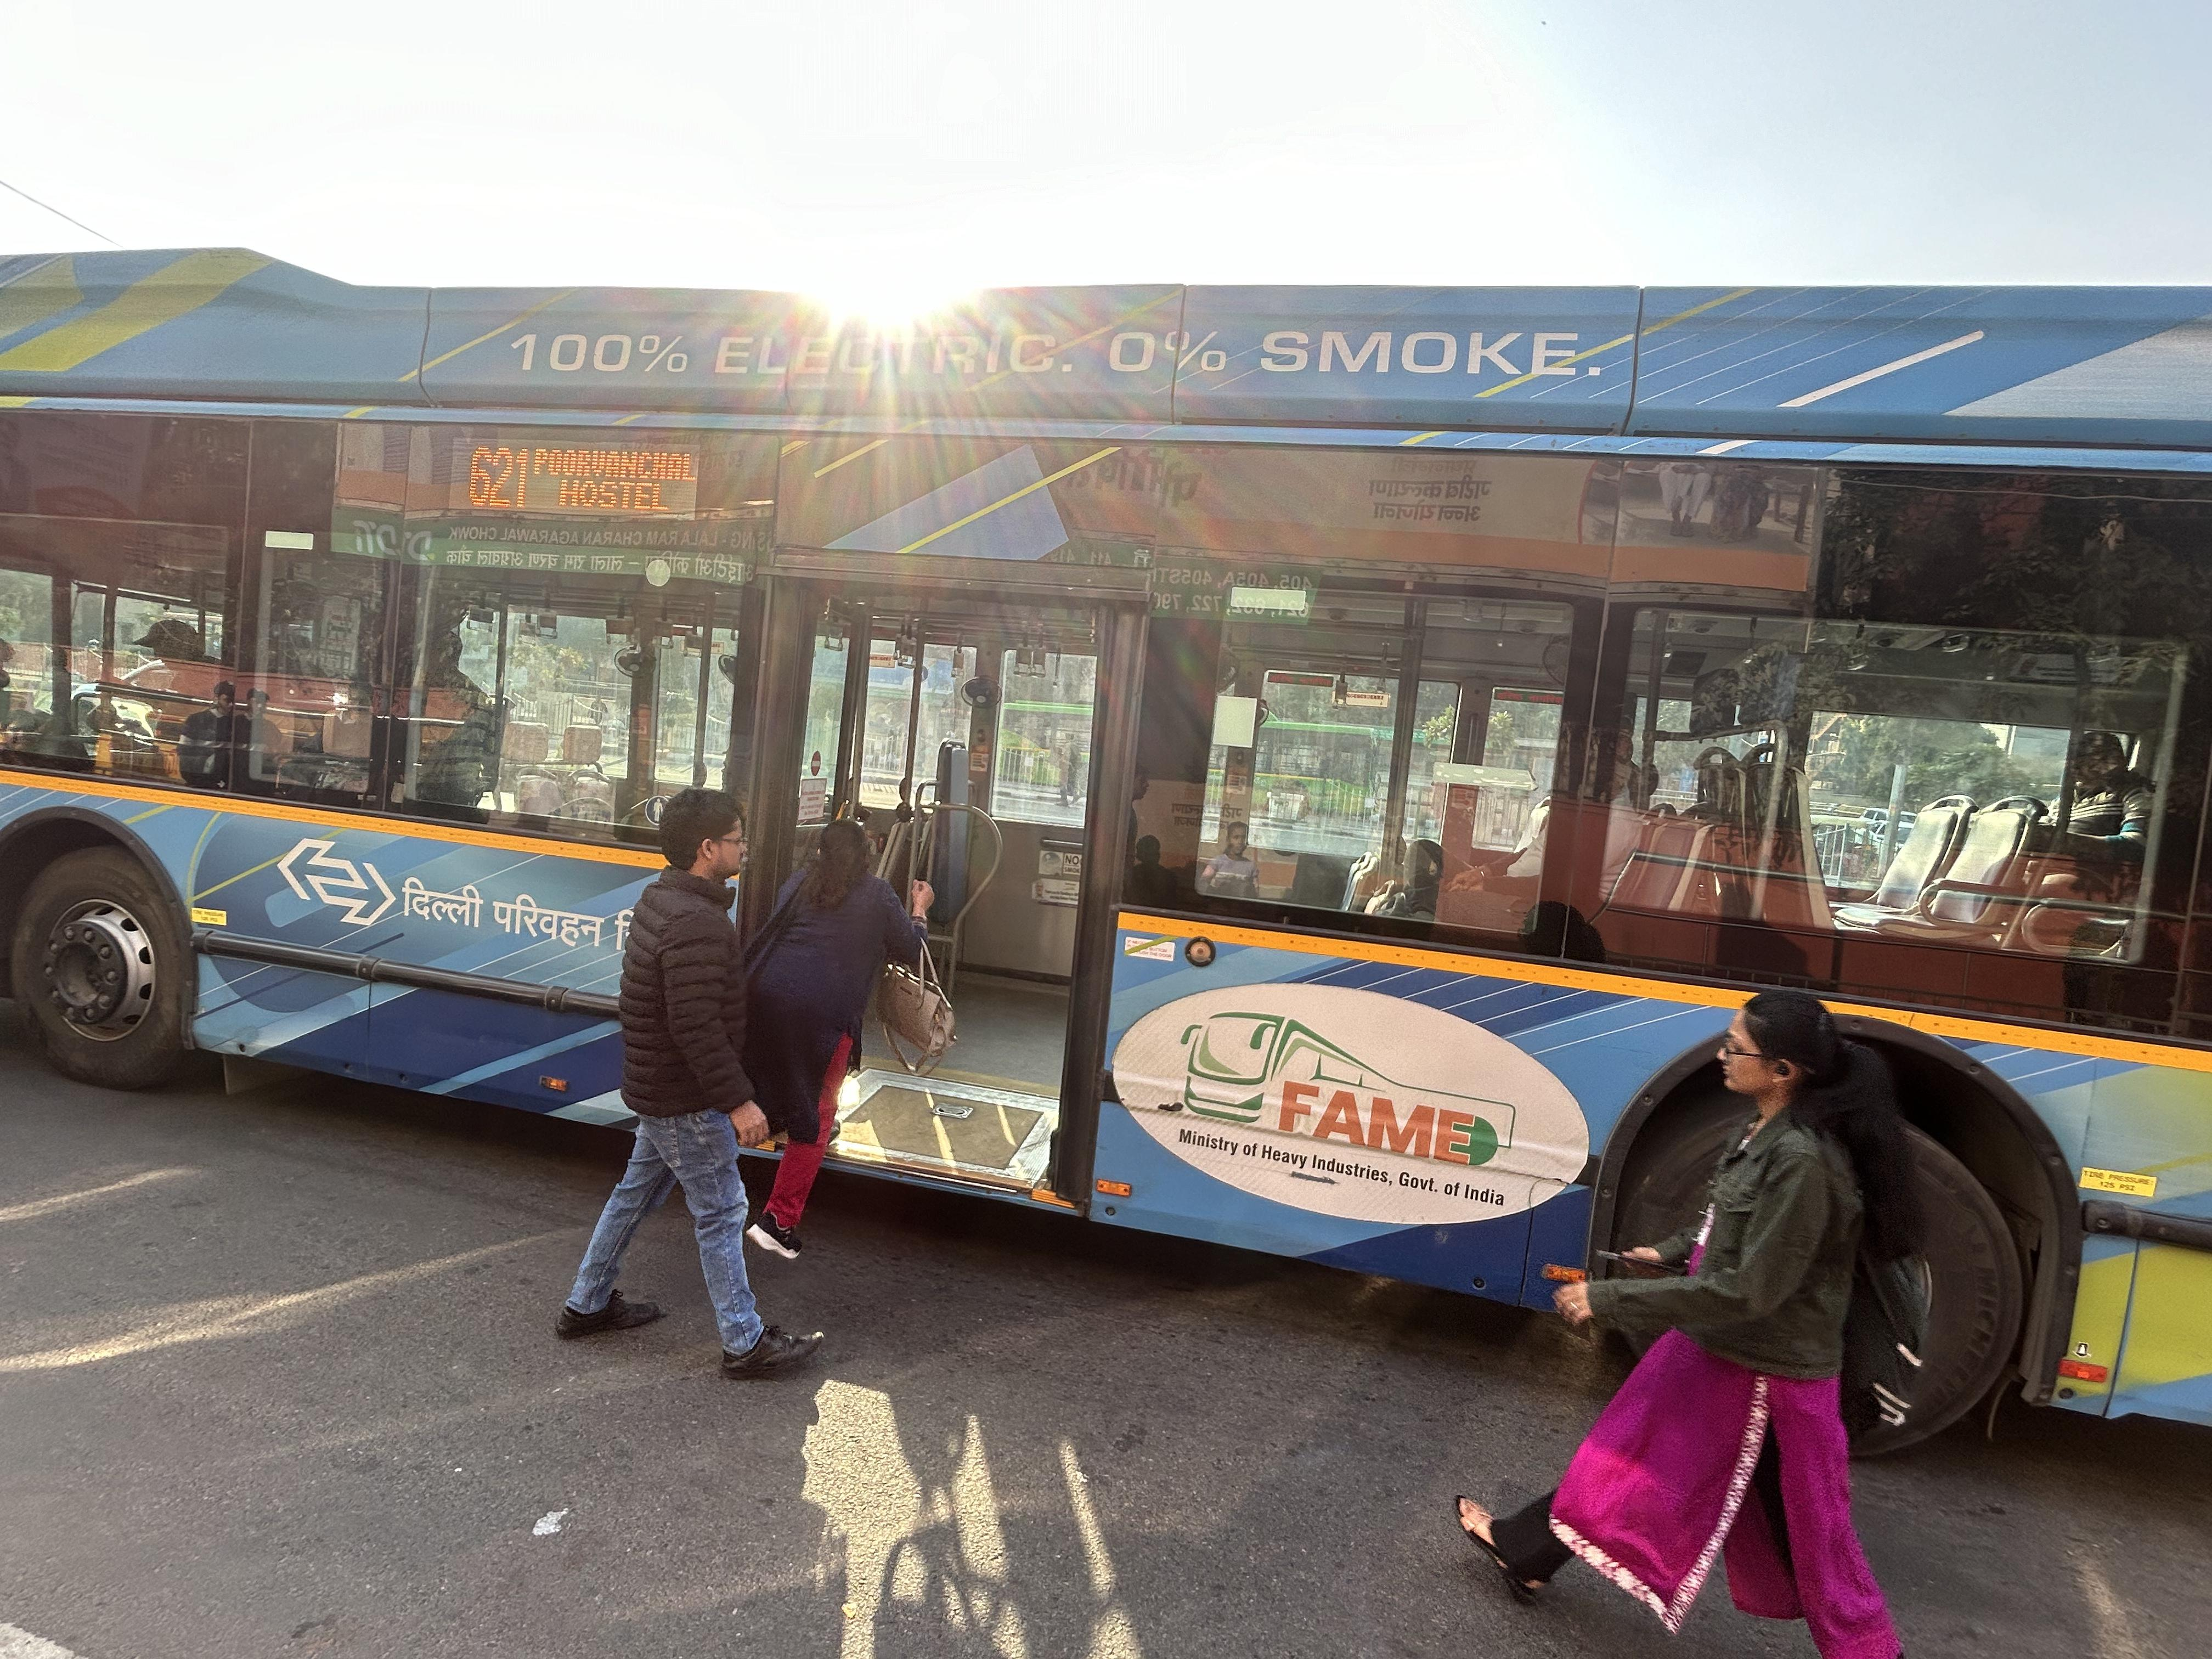Bus: (5, 230, 2212, 1415)
Display Board: (395, 422, 758, 565)
